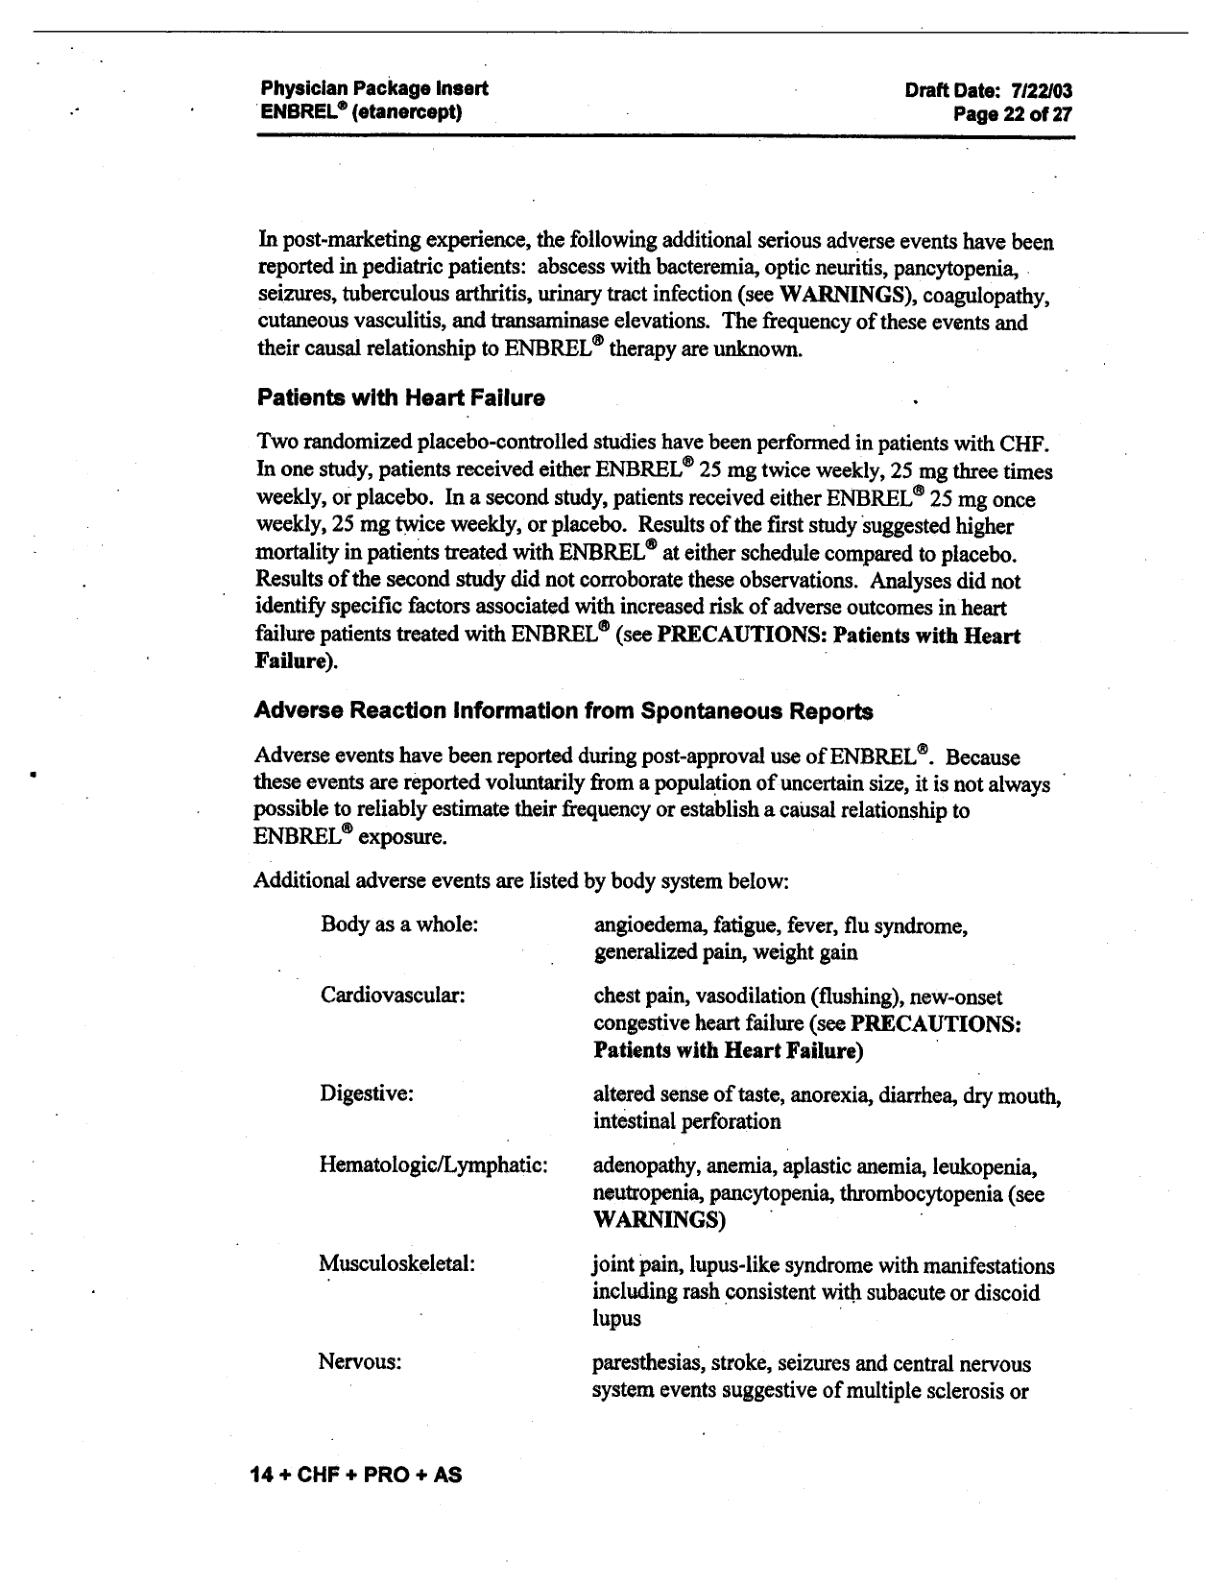nolines: (320, 913, 1065, 1407)
